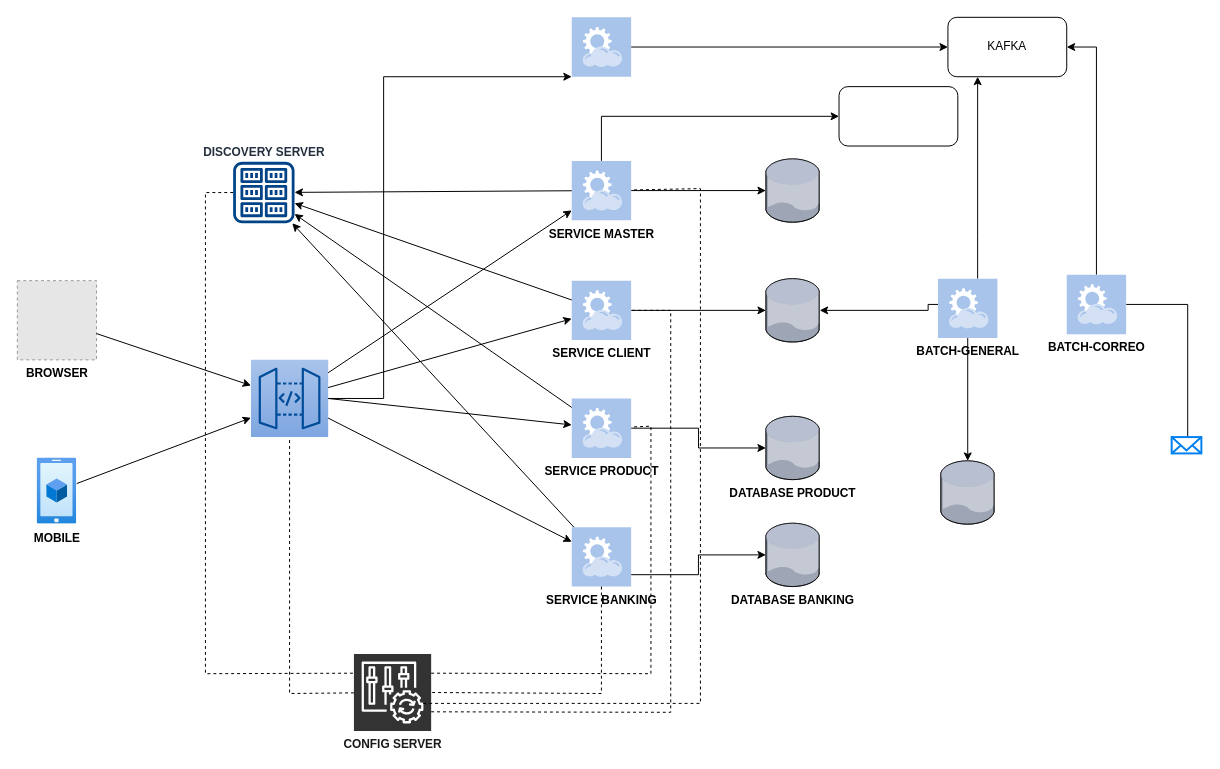
The diagram is 1220 pixels wide and 769 high, and some of its shapes have lost their labels. Grey dashed boxes stand in for pictures. The shapes that lost their labels are listed below. From the top down, each one's centre as x and y in pixels, then its label:
At pixel 601 46: "NOTIFY".
At pixel 898 116: "REDIS".
At pixel 792 190: "DATABASE MASTER".
At pixel 792 310: "DATABASE CLIENT".
At pixel 289 398: "API GATEWAY".
At pixel 967 492: "DB_DW".
